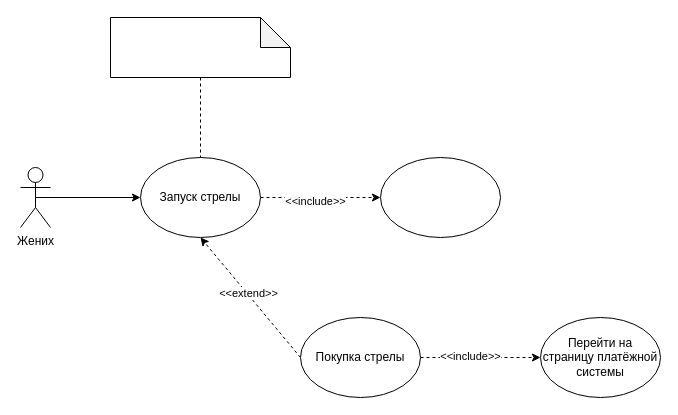
The diagram is 678 pixels wide and 415 high, and some of its shapes have lost their labels. Here are the shapes that lost their labels. From the top down, the centre of each, then its label:
(x=200, y=47): Preconditions: Есть стрелы; Не участвует в испытании в данный момент;
(x=440, y=197): Перейти на вкладку "Комната Жениха"
